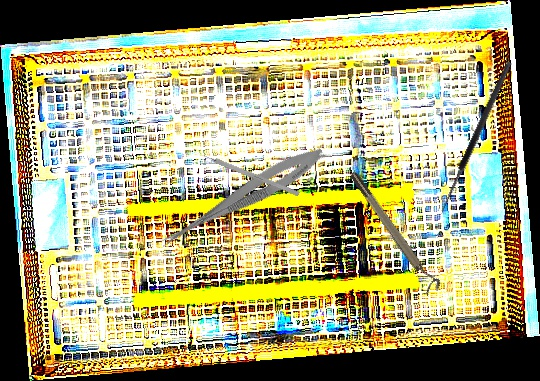Fixation Ring: (347, 166, 444, 297)
Hook Surgical: (438, 60, 520, 219), (195, 150, 300, 197)
Micro Scissor: (156, 139, 329, 258)
